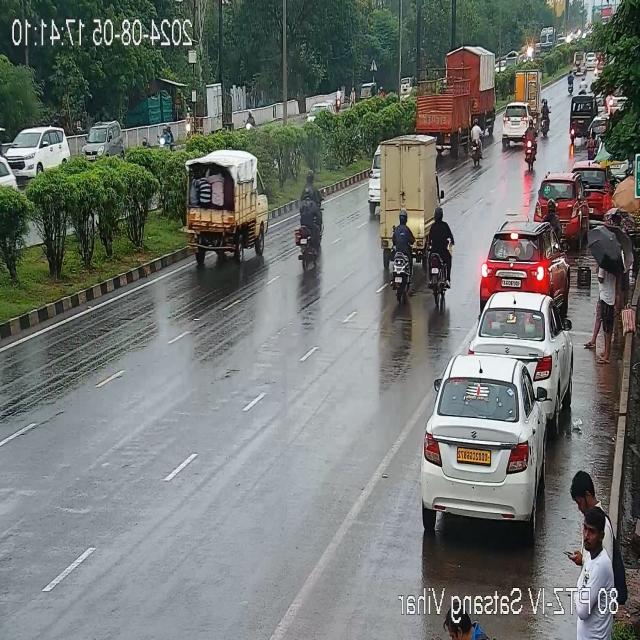2-wheelers: (384, 214, 418, 312), (424, 202, 452, 306), (289, 188, 324, 266), (520, 122, 542, 164), (466, 119, 482, 163), (544, 196, 560, 225), (542, 102, 550, 137)
auto: (568, 90, 598, 138), (586, 113, 608, 158)
car: (417, 355, 562, 531), (472, 294, 568, 396), (478, 226, 560, 298), (0, 124, 70, 176), (536, 176, 586, 232), (85, 120, 123, 172), (584, 159, 612, 223), (359, 142, 379, 218), (0, 142, 18, 204), (501, 102, 525, 148)
pedestrian: (586, 234, 628, 358), (567, 522, 611, 614), (562, 472, 604, 566), (442, 617, 474, 640), (602, 182, 616, 214)
truck: (178, 159, 264, 261), (368, 140, 440, 222), (412, 83, 492, 141), (451, 46, 496, 120), (511, 68, 541, 102), (539, 26, 557, 56)
